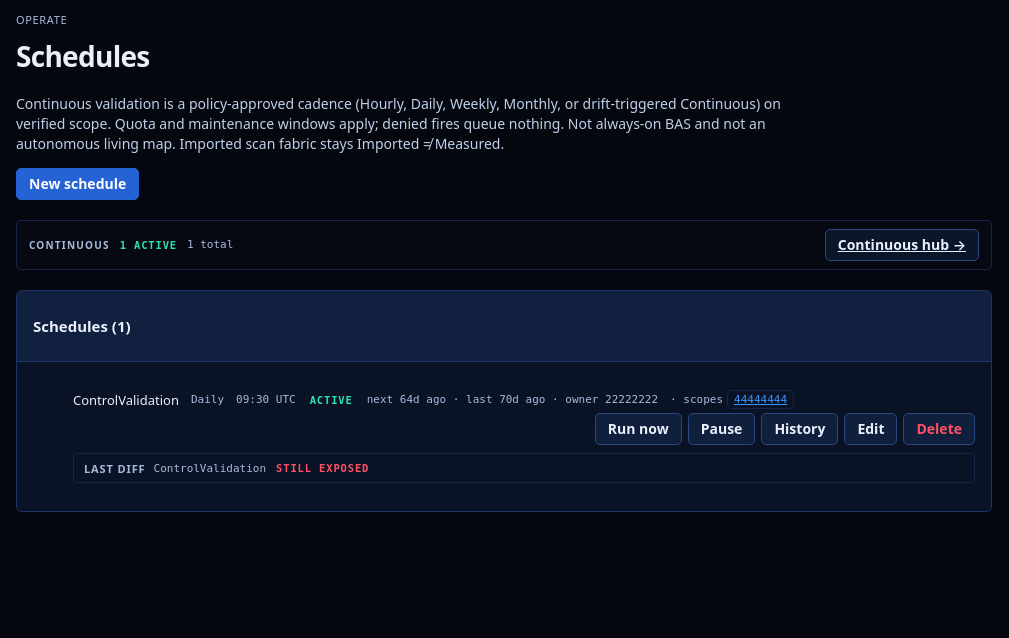
SchedulesWorkbench › loads schedule run history and shows owner + recovery notes
Expected: the text "next 64d ago · last 70d ago · owner 22222222" is shown, left=367, top=393, right=658, bottom=406
What coordinates should you click on to do the following:
click the button "History"
I would click on:
 (800, 429)
Its box is left=761, top=413, right=838, bottom=445.
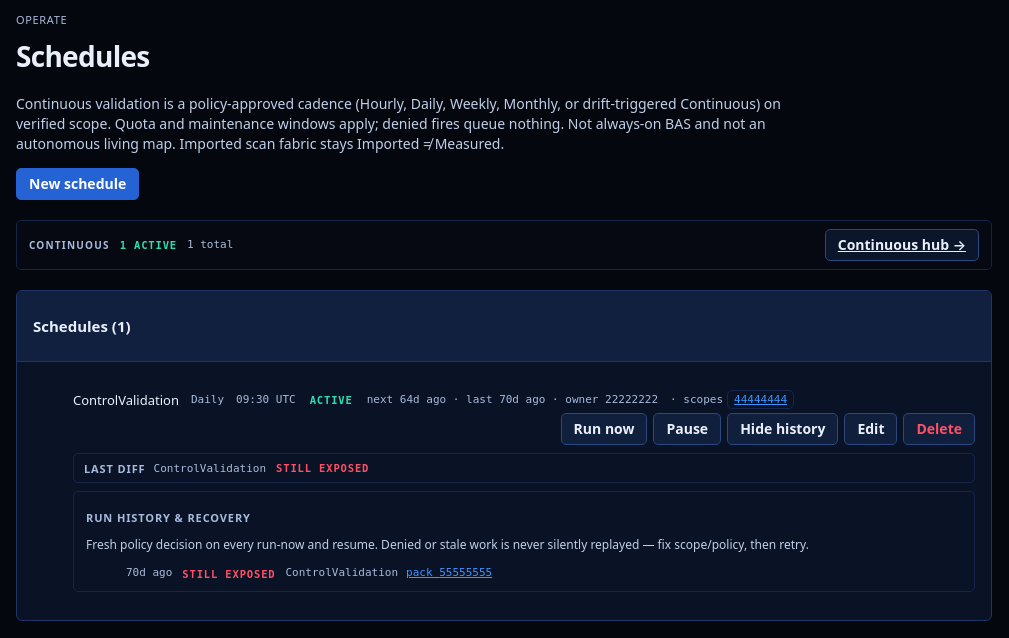
Expected: the element named "Schedule run history" is shown, left=73, top=491, right=975, bottom=592
Expected: the element named "Schedule run history" shows "Still Exposed", left=182, top=568, right=276, bottom=580
Expected: the element named "Schedule run history" shows "Denied or stale work is never silently replayed", left=86, top=536, right=809, bottom=553
